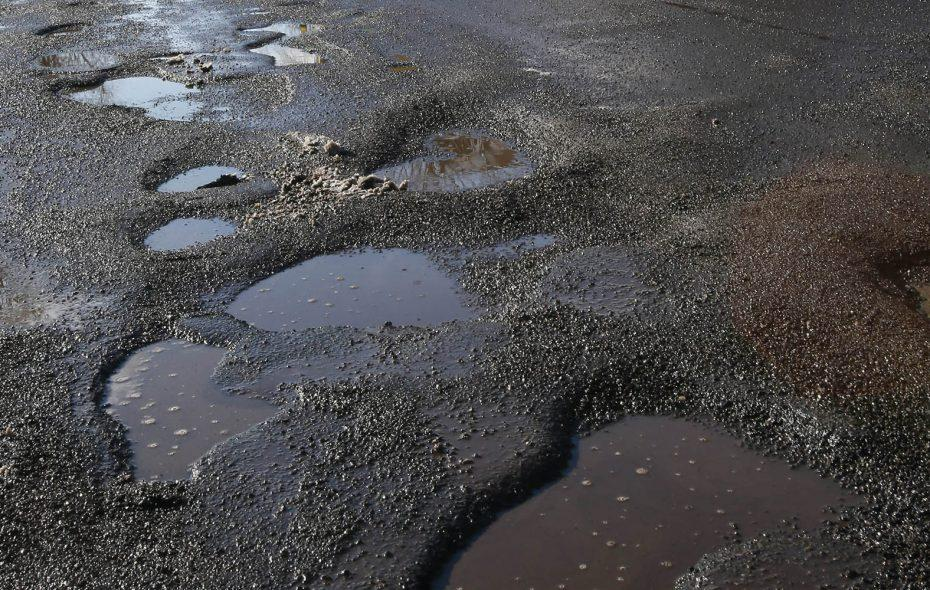Pothole: (87, 0, 632, 342), (402, 329, 903, 590), (55, 236, 303, 501), (24, 9, 108, 48)
